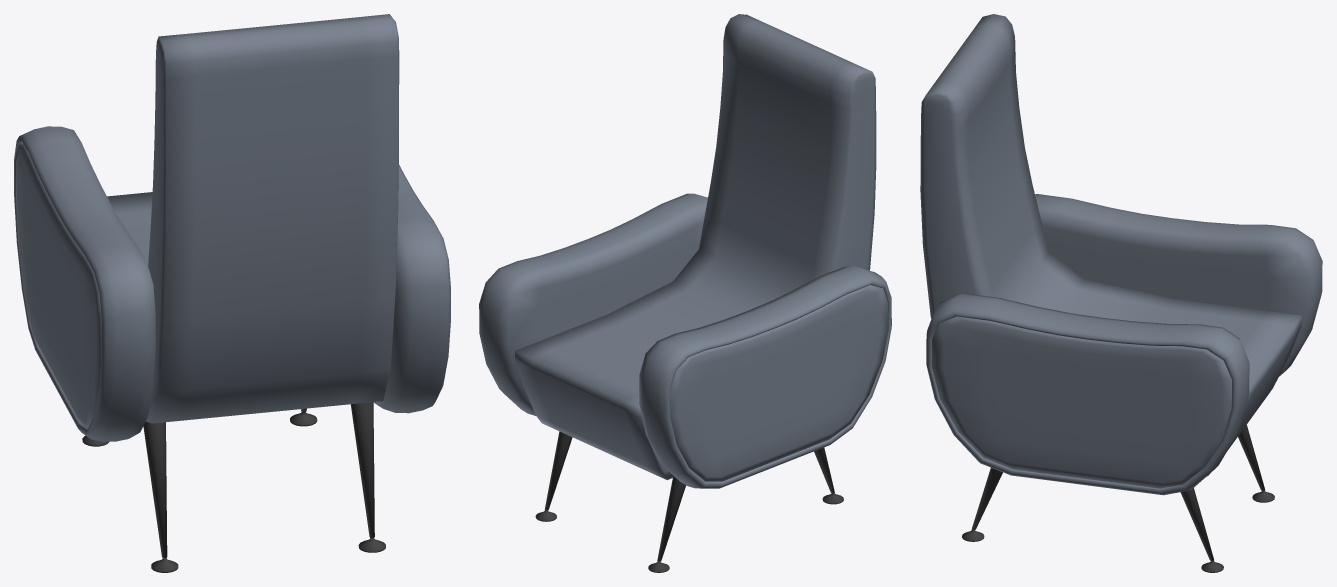
File: livingroom_chair01.fbx
3 renders of one model, left to right at view 1: azimuth 30°, elevation 25°; view 2: azimuth 150°, elevation 25°; view 3: azimuth 270°, elevation 25°, orthographic. The views are drawn at different scales.
Visible parts, largest first — view 1: body.010, legs.001; view 2: body.010, legs.001; view 3: body.010, legs.001.
Part boxes in pixels (<box>): body.010: <box>14,14,450,441</box>; legs.001: <box>82,402,385,572</box>; body.010: <box>479,14,891,488</box>; legs.001: <box>535,431,843,572</box>; body.010: <box>920,14,1322,495</box>; legs.001: <box>962,425,1274,572</box>.
Bounding box in the file's own units: 72.28 × 94.9 × 77.82.
